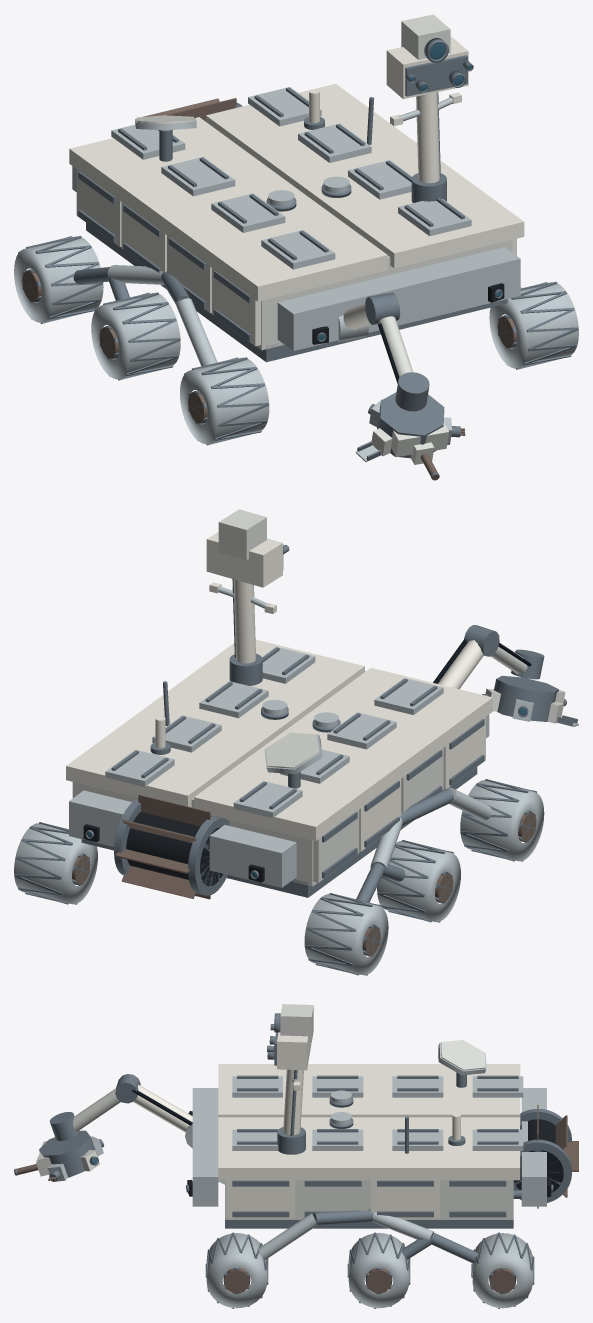
The model's file is curiosity.glb.
The picture shows the model from 3 angles, top to bottom: view 1: azimuth 30°, elevation 25°; view 2: azimuth 150°, elevation 25°; view 3: azimuth 270°, elevation 25°; orthographic projection. The views are drawn at different scales.
Parts seen in each view (by area): view 1: curiosity_body.deck.mesh_Warm_white_enamel, curiosity_body.deck.mesh_Satin_aluminum, curiosity_body.front_equipment.mesh_Satin_aluminum, curiosity_mobility.rocker_left.steer_front.wheel_front.rim.m (×2), curiosity_mobility.rocker_left.bogie.axle_middle.wheel_middl (×2), curiosity_mobility.rocker_right.steer_front.wheel_front.rim. (×2), curiosity_mobility.rocker_left.bogie.steer_rear.wheel_rear.r (×2), curiosity_body.mesh_Pale_thermal_blanket, curiosity_body.mesh_Machined_steel, curiosity_body.mesh_Warm_white_enamel, curiosity_body.deck.mesh_Machined_steel, curiosity_turret.mesh_Machined_steel (+11 smaller); view 2: curiosity_body.deck.mesh_Warm_white_enamel, curiosity_body.deck.mesh_Satin_aluminum, curiosity_body.rear_equipment.mesh_Satin_aluminum, curiosity_mobility.rocker_left.bogie.steer_rear.wheel_rear.r (×2), curiosity_mobility.rocker_right.bogie.steer_rear.wheel_rear. (×2), curiosity_mobility.rocker_left.steer_front.wheel_front.rim.m (×2), curiosity_mobility.rocker_left.bogie.axle_middle.wheel_middl (×2), curiosity_body.mesh_Pale_thermal_blanket, curiosity_body.power_comms.mmrtg.mesh_Heat-stained_alloy, curiosity_body.mesh_Machined_steel, curiosity_body.power_comms.mmrtg.mesh_Carbon_composite, curiosity_body.mesh_Warm_white_enamel (+13 smaller); view 3: curiosity_body.deck.mesh_Warm_white_enamel, curiosity_body.deck.mesh_Satin_aluminum, curiosity_body.mesh_Pale_thermal_blanket, curiosity_body.mesh_Machined_steel, curiosity_mobility.rocker_right.bogie.steer_rear.wheel_rear. (×3), curiosity_mobility.rocker_right.bogie.axle_middle.wheel_midd (×3), curiosity_body.mesh_Warm_white_enamel, curiosity_mobility.rocker_right.steer_front.wheel_front.rim. (×3), curiosity_body.front_equipment.mesh_Satin_aluminum, curiosity_body.deck.mesh_Machined_steel, curiosity_body.rear_equipment.mesh_Satin_aluminum, curiosity_mobility.rocker_right.mesh_Satin_aluminum (+14 smaller).
Part boxes in pixels (x1,y1,x2,y2): curiosity_body.deck.mesh_Warm_white_enamel: [69, 83, 524, 301]; curiosity_body.deck.mesh_Satin_aluminum: [111, 87, 471, 269]; curiosity_body.front_equipment.mesh_Satin_aluminum: [277, 247, 520, 350]; curiosity_mobility.rocker_left.steer_front.wheel_front.rim.m (×2): [180, 357, 269, 445]; curiosity_mobility.rocker_left.bogie.axle_middle.wheel_middl (×2): [91, 292, 180, 380]; curiosity_mobility.rocker_right.steer_front.wheel_front.rim. (×2): [489, 281, 578, 369]; curiosity_mobility.rocker_left.bogie.steer_rear.wheel_rear.r (×2): [14, 236, 103, 323]; curiosity_body.mesh_Pale_thermal_blanket: [76, 169, 512, 350]; curiosity_body.mesh_Machined_steel: [78, 171, 507, 362]; curiosity_body.mesh_Warm_white_enamel: [121, 202, 516, 346]; curiosity_body.deck.mesh_Machined_steel: [118, 87, 464, 260]; curiosity_turret.mesh_Machined_steel: [377, 392, 444, 458]; curiosity_body.deck.mesh_Warm_white_enamel: [66, 639, 492, 840]; curiosity_body.deck.mesh_Satin_aluminum: [105, 646, 443, 818]; curiosity_body.rear_equipment.mesh_Satin_aluminum: [69, 790, 296, 887]; curiosity_mobility.rocker_left.bogie.steer_rear.wheel_rear.r (×2): [304, 893, 388, 975]; curiosity_mobility.rocker_right.bogie.steer_rear.wheel_rear. (×2): [14, 822, 97, 904]; curiosity_mobility.rocker_left.steer_front.wheel_front.rim.m (×2): [460, 779, 544, 861]; curiosity_mobility.rocker_left.bogie.axle_middle.wheel_middl (×2): [377, 840, 460, 922]; curiosity_body.mesh_Pale_thermal_blanket: [72, 748, 443, 886]; curiosity_body.power_comms.mmrtg.mesh_Heat-stained_alloy: [114, 794, 213, 899]; curiosity_body.mesh_Machined_steel: [81, 719, 484, 897]; curiosity_body.power_comms.mmrtg.mesh_Carbon_composite: [126, 812, 222, 886]; curiosity_body.mesh_Warm_white_enamel: [359, 717, 485, 851]; curiosity_body.deck.mesh_Warm_white_enamel: [218, 1064, 520, 1180]; curiosity_body.deck.mesh_Satin_aluminum: [232, 1076, 523, 1150]; curiosity_body.mesh_Pale_thermal_blanket: [225, 1180, 513, 1219]; curiosity_body.mesh_Machined_steel: [225, 1180, 513, 1228]; curiosity_mobility.rocker_right.bogie.steer_rear.wheel_rear. (×3): [471, 1232, 534, 1308]; curiosity_mobility.rocker_right.bogie.axle_middle.wheel_midd (×3): [347, 1232, 410, 1308]; curiosity_body.mesh_Warm_white_enamel: [226, 1180, 439, 1218]; curiosity_mobility.rocker_right.steer_front.wheel_front.rim. (×3): [205, 1232, 268, 1308]; curiosity_body.front_equipment.mesh_Satin_aluminum: [192, 1088, 218, 1206]; curiosity_body.deck.mesh_Machined_steel: [237, 1075, 518, 1144]; curiosity_body.rear_equipment.mesh_Satin_aluminum: [521, 1088, 546, 1206]; curiosity_mobility.rocker_right.mesh_Satin_aluminum: [257, 1212, 433, 1259].
Size of the model in its own units: 2.8 by 2.37 by 4.65.
